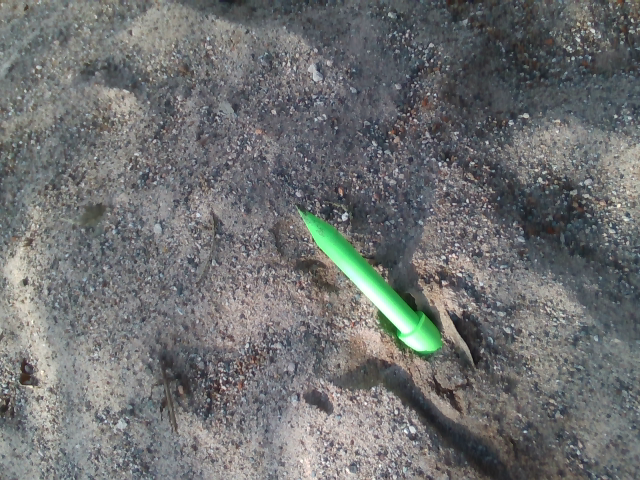Probe: (286, 188, 459, 368)
